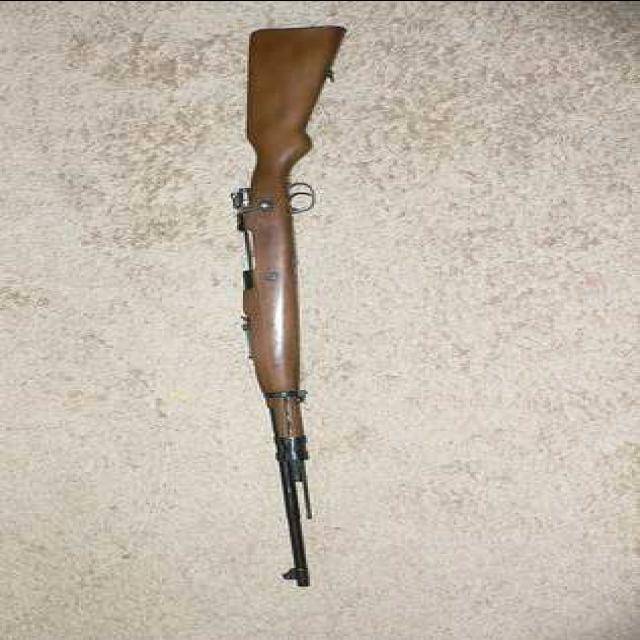heavyweapon: (163, 20, 427, 605)
